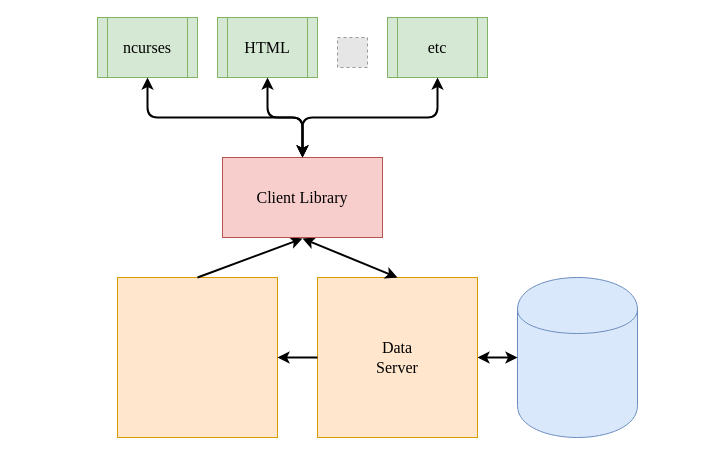
The diagram is 714 pixels wide and 455 high, and some of its shapes have lost their labels. Grey dashed boxes stand in for pictures. Here are the shapes that lost their labels. From the top down, the centre of each, then its label:
At pixel 197 357: "Broadcast Server".
At pixel 577 357: "SQLite Storage".
